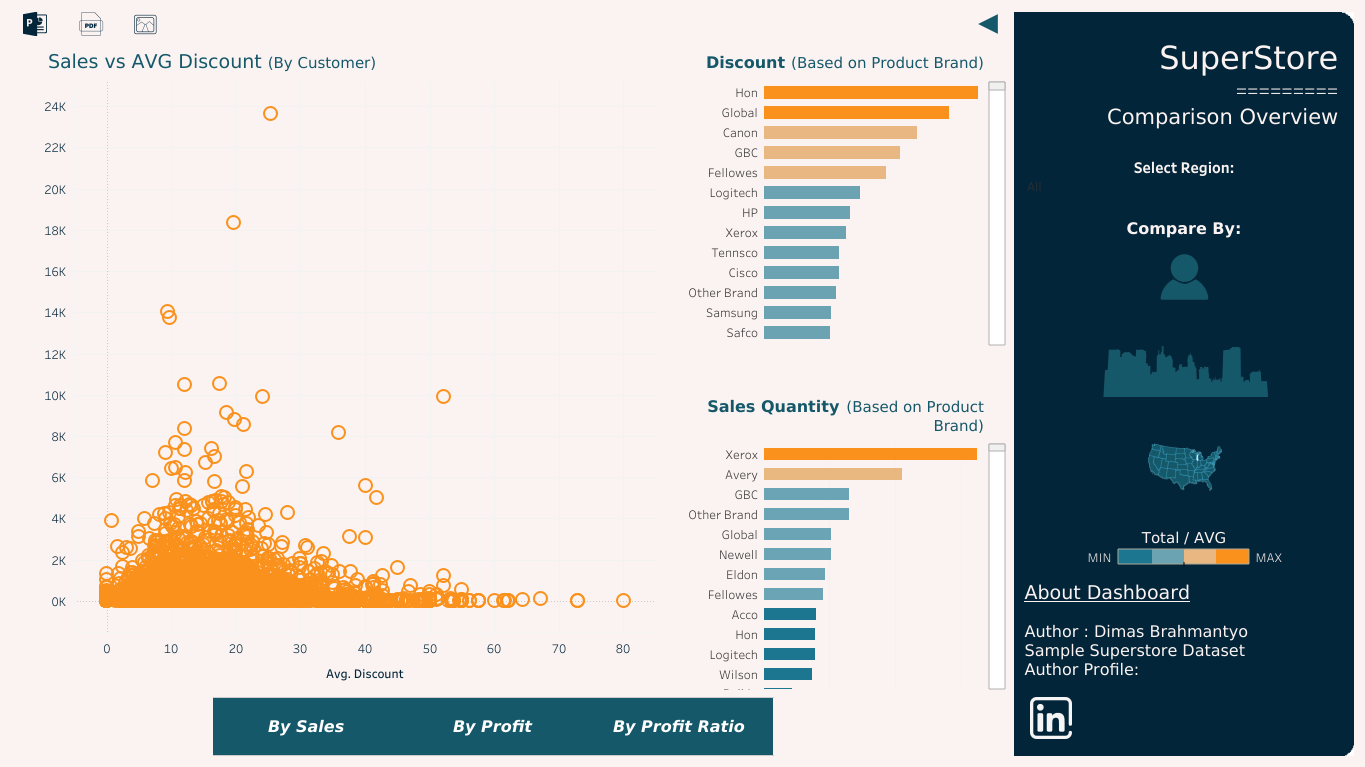

The dashboard page shown, as its layout file describes it:
{"tool":"tableau","page":{"name":"Dashboard 2 - Comparison Overview (By Customer & Product Brand)","canvas":[1366,768],"ordinal":2},"visuals":[{"type":"dashboard-object","box":[8,8,54,32]},{"type":"dashboard-object","box":[62,8,60,32]},{"type":"dashboard-object","box":[122,8,47,32]},{"type":"worksheet","title":"Go Back","mark":"Shape","rows":["Calculation_132293265483010062"],"box":[965,8,45,32]},{"type":"image","param":"Image/2.png","box":[1010,8,348,752]},{"type":"text","box":[1025,21,316,125]},{"type":"worksheet","title":"Sheet 8","mark":"Shape","rows":["Calculation_132293265338007554"],"cols":["Calculation_1180506078092304394"],"box":[40,40,620,653]},{"type":"worksheet","title":"Based on Product Brand","mark":"Bar","rows":["Product Brand"],"box":[683,40,327,309]},{"type":"blank","box":[1025,155,318,50]},{"type":"setMembership","title":"Sheet 8","param":"[federated.1u37z9d020ffhv1e04nla11qurtp].[a1. Select Region Set]","box":[1025,155,318,50]},{"type":"text","box":[1027,213,314,30]},{"type":"dashboard-object","box":[1028,251,313,52]},{"type":"dashboard-object","box":[1028,345,314,52]},{"type":"worksheet","title":"Quantity Based on Product Brand","mark":"Automatic","rows":["Product Brand"],"cols":["Quantity"],"box":[683,384,327,309]},{"type":"dashboard-object","box":[1030,440,310,52]},{"type":"legend","title":"Based on Product Brand","param":"[federated.1u37z9d020ffhv1e04nla11qurtp].[usr:Calculation_132293265338007554:qk]","box":[1114,525,140,50]},{"type":"text","box":[1085,544,29,26]},{"type":"text","box":[1253,546,37,22]},{"type":"text","box":[1022,577,272,106]},{"type":"worksheet","title":"LinkedIn","mark":"Shape","rows":["Calculation_1125055507973922816"],"box":[1022,691,57,53]},{"type":"worksheet","title":"Field Button (Dashboard 2)","mark":"Shape","box":[209,693,569,67]}]}

Visuals, with their boxes in screenshot pixels (x1, y1, x2, y2), scaled from the page's 1366x768 canvas onto the 1365x767 screenshot:
dashboard-object: box=[8, 8, 62, 40]
dashboard-object: box=[62, 8, 122, 40]
dashboard-object: box=[122, 8, 169, 40]
"Go Back" worksheet (Shape marks): box=[964, 8, 1009, 40]
image: box=[1009, 8, 1357, 759]
text: box=[1024, 21, 1340, 146]
"Sheet 8" worksheet (Shape marks): box=[40, 40, 660, 692]
"Based on Product Brand" worksheet (Bar marks): box=[682, 40, 1009, 349]
blank: box=[1024, 155, 1342, 205]
"Sheet 8" setMembership: box=[1024, 155, 1342, 205]
text: box=[1026, 213, 1340, 243]
dashboard-object: box=[1027, 251, 1340, 303]
dashboard-object: box=[1027, 345, 1341, 396]
"Quantity Based on Product Brand" worksheet: box=[682, 384, 1009, 692]
dashboard-object: box=[1029, 439, 1339, 491]
"Based on Product Brand" legend: box=[1113, 524, 1253, 574]
text: box=[1084, 543, 1113, 569]
text: box=[1252, 545, 1289, 567]
text: box=[1021, 576, 1293, 682]
"LinkedIn" worksheet (Shape marks): box=[1021, 690, 1078, 743]
"Field Button (Dashboard 2)" worksheet (Shape marks): box=[209, 692, 777, 759]
